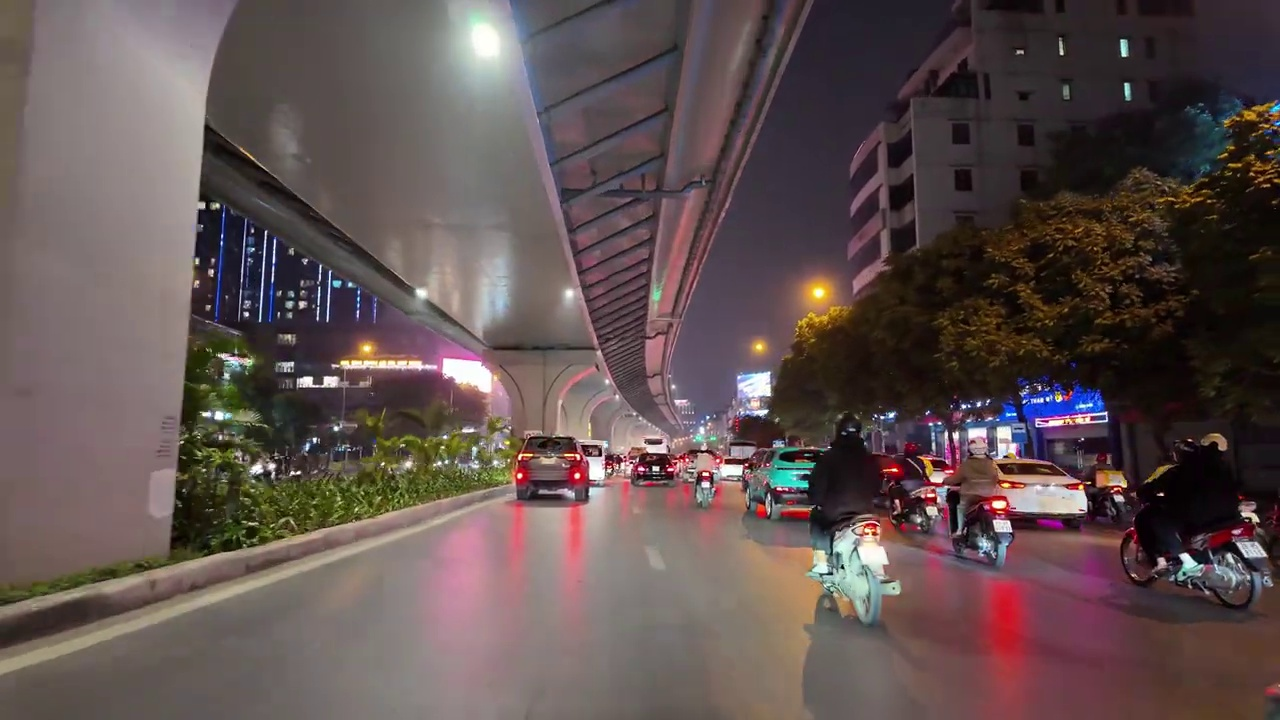acesa: (465, 21, 504, 63), (803, 278, 835, 307), (747, 335, 771, 360)
